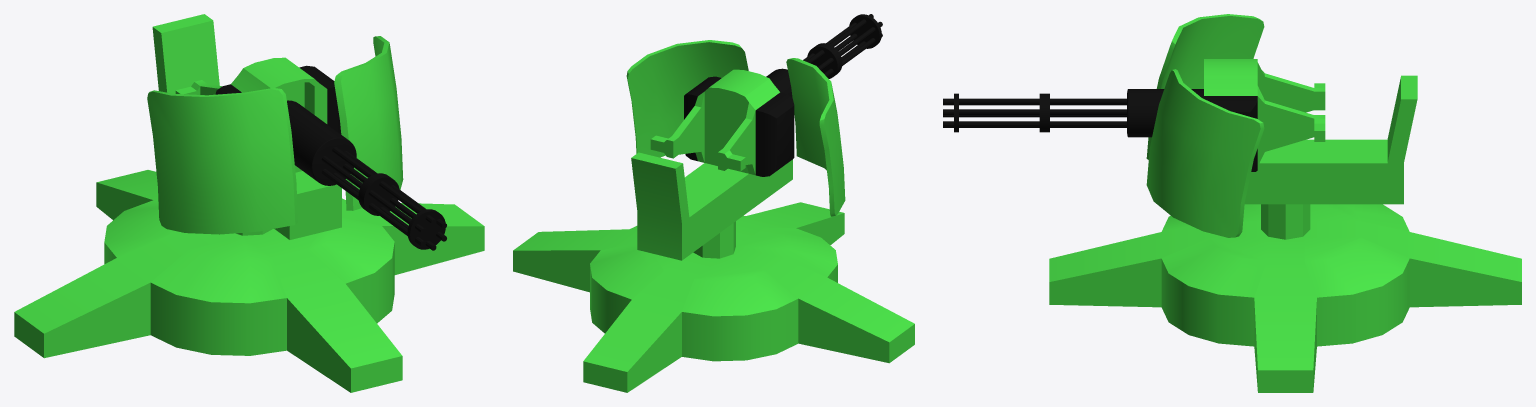
The model's file is Turret2.fbx.
The picture shows the model from 3 angles, left to right: view 1: azimuth 30°, elevation 25°; view 2: azimuth 150°, elevation 25°; view 3: azimuth 270°, elevation 25°; orthographic projection. The views are drawn at different scales.
Visible parts, largest first — view 1: Turret2, Turret2Cannon, Turret2Cannon_Part2; view 2: Turret2, Turret2Cannon, Turret2Cannon_Part2; view 3: Turret2, Turret2Cannon, Turret2Cannon_Part2.
Boxes of the visible parts, x1,y1,x2,y2 form: Turret2: [14, 170, 484, 392]; Turret2Cannon: [147, 14, 403, 239]; Turret2Cannon_Part2: [287, 100, 446, 250]; Turret2: [513, 202, 914, 392]; Turret2Cannon: [626, 40, 845, 260]; Turret2Cannon_Part2: [766, 14, 882, 97]; Turret2: [1049, 204, 1521, 392]; Turret2Cannon: [1146, 14, 1417, 239]; Turret2Cannon_Part2: [943, 89, 1203, 137].
Size of the model in its own units: 73.48 by 41.2 by 90.01.
